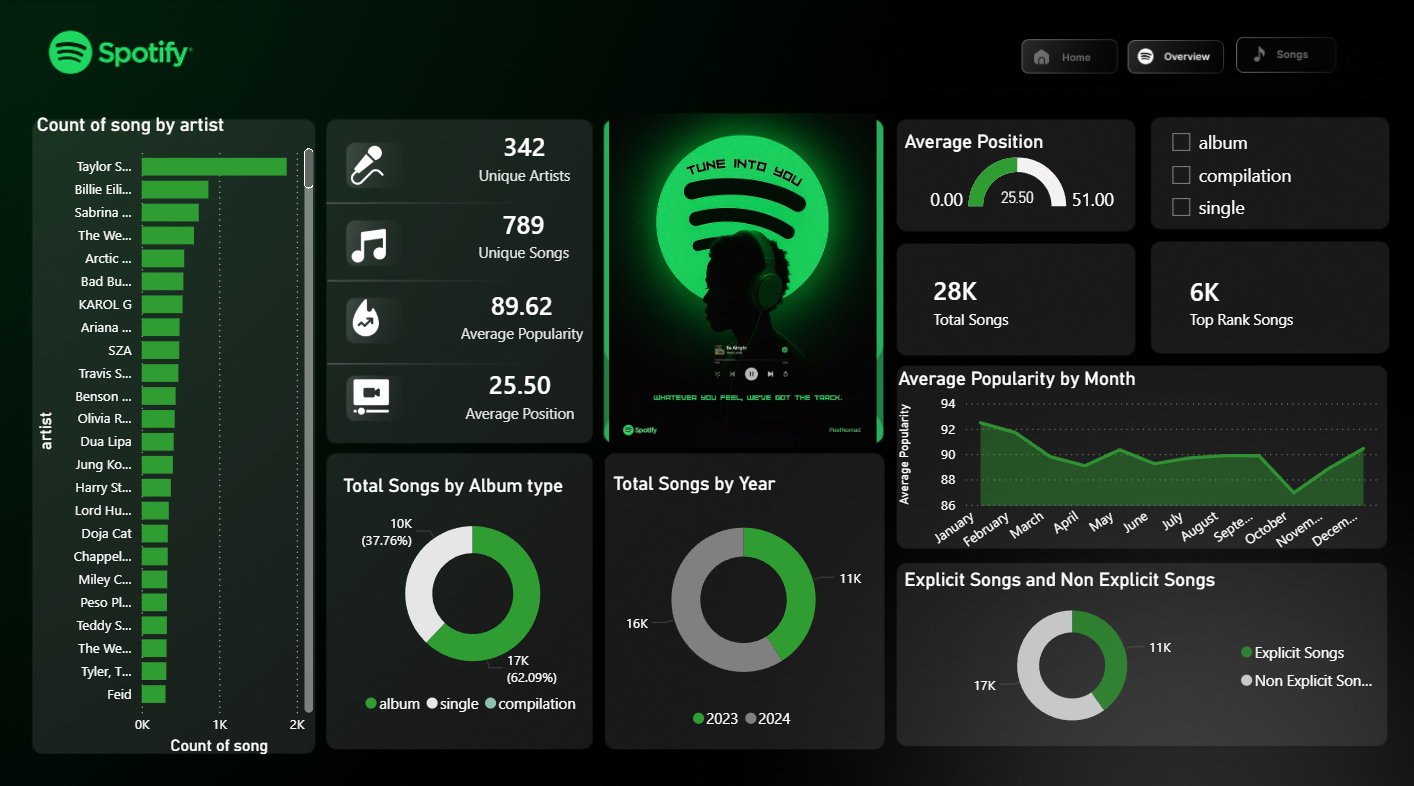

What the dashboard file says about the page in this screenshot:
{"tool":"powerbi","page":{"name":"Overview","canvas":[1280,720],"ordinal":1},"visuals":[{"type":"cardVisual","fields":{"Data":["_Measures.Unique Artists"]},"box":[369.6,94.3,211.8,99],"z":0},{"type":"cardVisual","fields":{"Data":["_Measures.Average Popularity"]},"box":[366.5,235,211.8,105.1],"z":1000},{"type":"cardVisual","fields":{"Data":["_Measures.Unique Songs"]},"box":[366.5,162.4,214.9,103.6],"z":2000},{"type":"cardVisual","fields":{"Data":["_Measures.Average Position"]},"box":[363.4,309.3,214.9,100.5],"z":3000},{"type":"image","box":[504.2,105.4,334.9,302.3],"z":4000},{"type":"areaChart","fields":{"Category":["Top-50-world.date.Variation.Date Hierarchy.Month"],"Y":["_Measures.Average Popularity"]},"box":[807.6,334.7,443,195.4],"z":5000},{"type":"donutChart","fields":{"Y":["_Measures.Explicit Songs","_Measures.Non Explicit Songs"]},"box":[812.6,516.4,444.3,156.8],"z":6000},{"type":"gauge","fields":{"Y":["_Measures.Average Position"]},"box":[812.6,120.7,222.8,78.4],"z":7000},{"type":"clusteredBarChart","fields":{"Category":["Top-50-world.artist"],"Y":["CountNonNull(Top-50-world.song)"]},"box":[29.4,105.1,259.8,584.5],"z":8000},{"type":"image","box":[318.5,199.5,30.9,49.5],"z":9000},{"type":"image","box":[313.9,341.7,44.8,38.7],"z":10000},{"type":"image","box":[320.1,266,34,46.4],"z":11000},{"type":"image","box":[315.4,126.8,35.6,51],"z":12000},{"type":"donutChart","fields":{"Category":["Top-50-world.date.Variation.Date Hierarchy.Year"],"Y":["_Measures.Total Songs"]},"box":[550,428.6,245.7,241.4],"z":13000},{"type":"donutChart","title":"Total Songs by Album type","fields":{"Category":["Top-50-world.album_type"],"Y":["_Measures.Total Songs"]},"box":[306.2,431.4,244.3,225.8],"z":14000},{"type":"slicer","title":"Album type","fields":{"Values":["Top-50-world.album_type"]},"box":[1047.1,111.4,217.1,102.9],"z":15000},{"type":"cardVisual","fields":{"Data":["_Measures.Total Songs"]},"box":[815.1,214,220.3,120.7],"z":16000},{"type":"cardVisual","fields":{"Data":["_Measures.Top Rank Songs"]},"box":[1047.2,223.2,191.9,111.6],"z":17000}]}

Visuals, with their boxes in screenshot pixels (x1, y1, x2, y2), scaled from the page's 1280x720 canvas onto the 1414x786 screenshot:
cardVisual - _Measures.Unique Artists: x1=408, y1=103, x2=642, y2=211
cardVisual - _Measures.Average Popularity: x1=405, y1=257, x2=639, y2=371
cardVisual - _Measures.Unique Songs: x1=405, y1=177, x2=642, y2=290
cardVisual - _Measures.Average Position: x1=401, y1=338, x2=639, y2=447
image: x1=557, y1=115, x2=927, y2=445
areaChart - Top-50-world.date.Variation.Date Hierarchy.Month x _Measures.Average Popularity: x1=892, y1=365, x2=1382, y2=579
donutChart - _Measures.Explicit Songs x _Measures.Non Explicit Songs: x1=898, y1=564, x2=1388, y2=735
gauge - _Measures.Average Position: x1=898, y1=132, x2=1144, y2=217
clusteredBarChart - Top-50-world.artist x CountNonNull(Top-50-world.song): x1=32, y1=115, x2=319, y2=753
image: x1=352, y1=218, x2=386, y2=272
image: x1=347, y1=373, x2=396, y2=415
image: x1=354, y1=290, x2=391, y2=341
image: x1=348, y1=138, x2=388, y2=194
donutChart - Top-50-world.date.Variation.Date Hierarchy.Year x _Measures.Total Songs: x1=608, y1=468, x2=879, y2=731
"Total Songs by Album type" donutChart: x1=338, y1=471, x2=608, y2=717
"Album type" slicer: x1=1157, y1=122, x2=1397, y2=234
cardVisual - _Measures.Total Songs: x1=900, y1=234, x2=1144, y2=365
cardVisual - _Measures.Top Rank Songs: x1=1157, y1=244, x2=1369, y2=365
